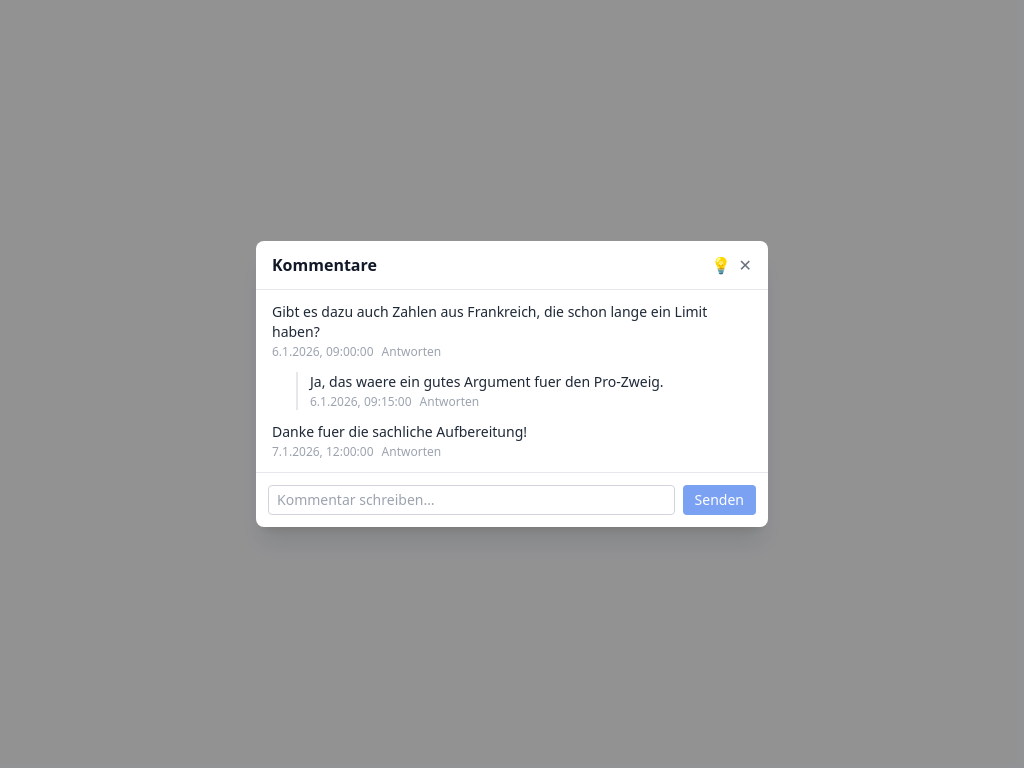
Test: CommentsModal › lists existing comments and posts a new one
The width and height of the screenshot is (1024, 768).
Expected: the text "Danke fuer die sachliche Aufbereitung!" is shown, [272,422,527,441]
Type "Sehr hilfreich, danke!" into the field with placeholder "Kommentar schreiben…" at (471, 500), box [268,485,675,515]
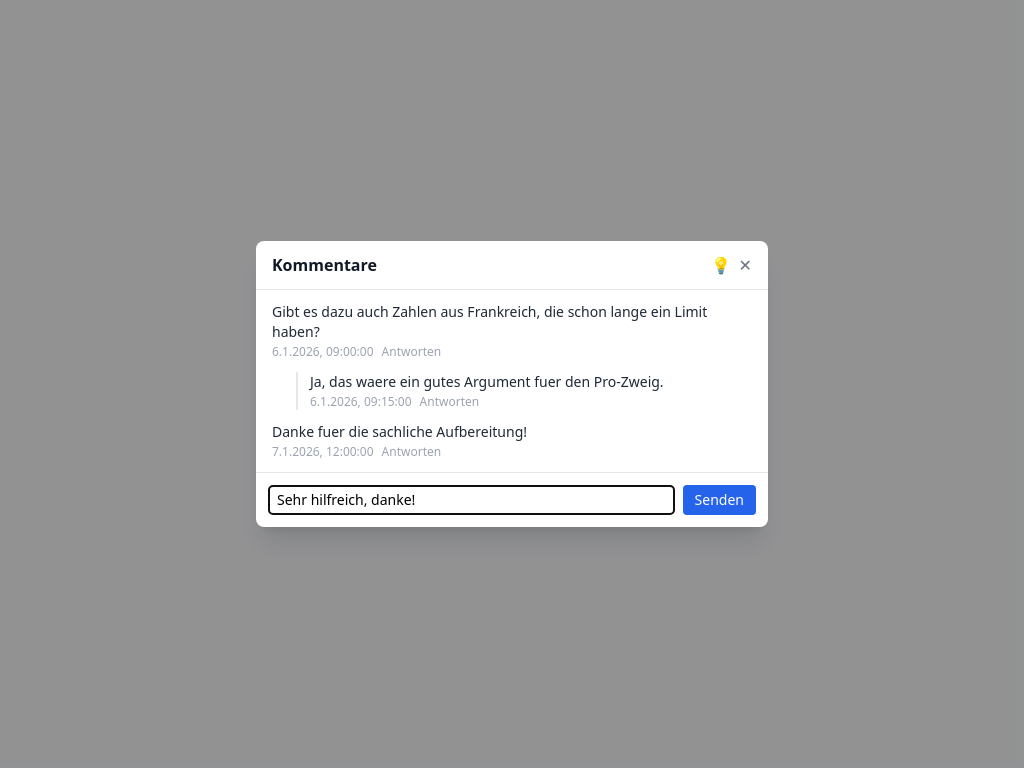
Click the button "Senden" at (719, 500), box [683,485,756,515]
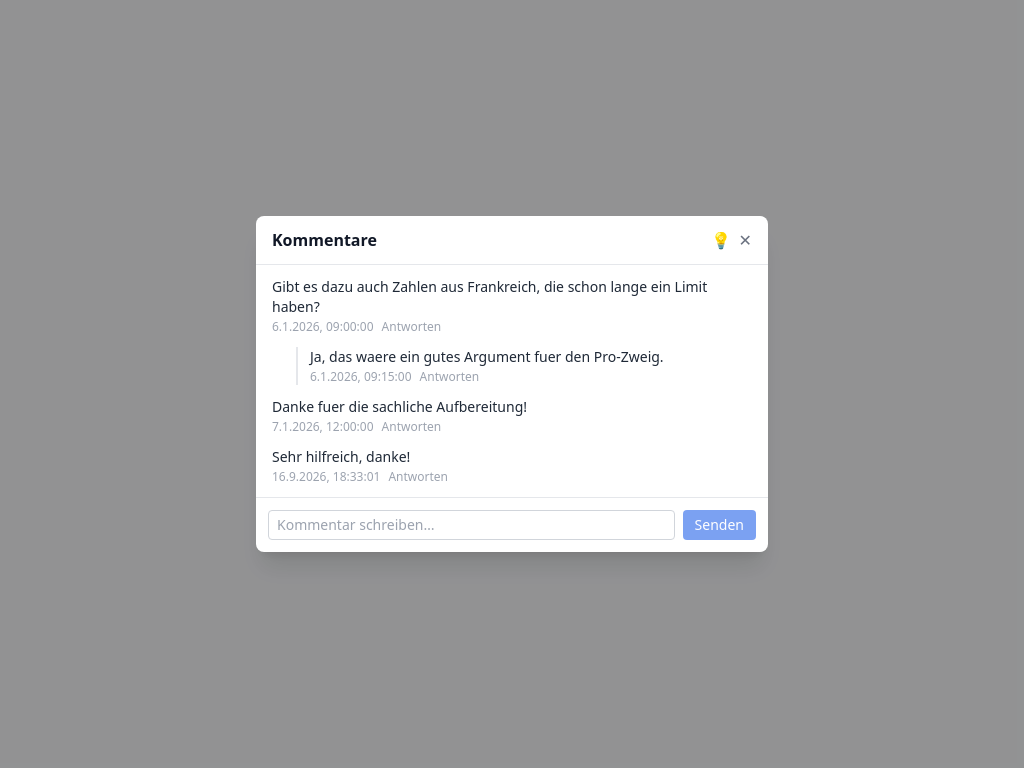
Expected: the text "Sehr hilfreich, danke!" is shown, [272,447,410,466]
Expected: the field with placeholder "Kommentar schreiben…" is empty, [268,510,675,540]
